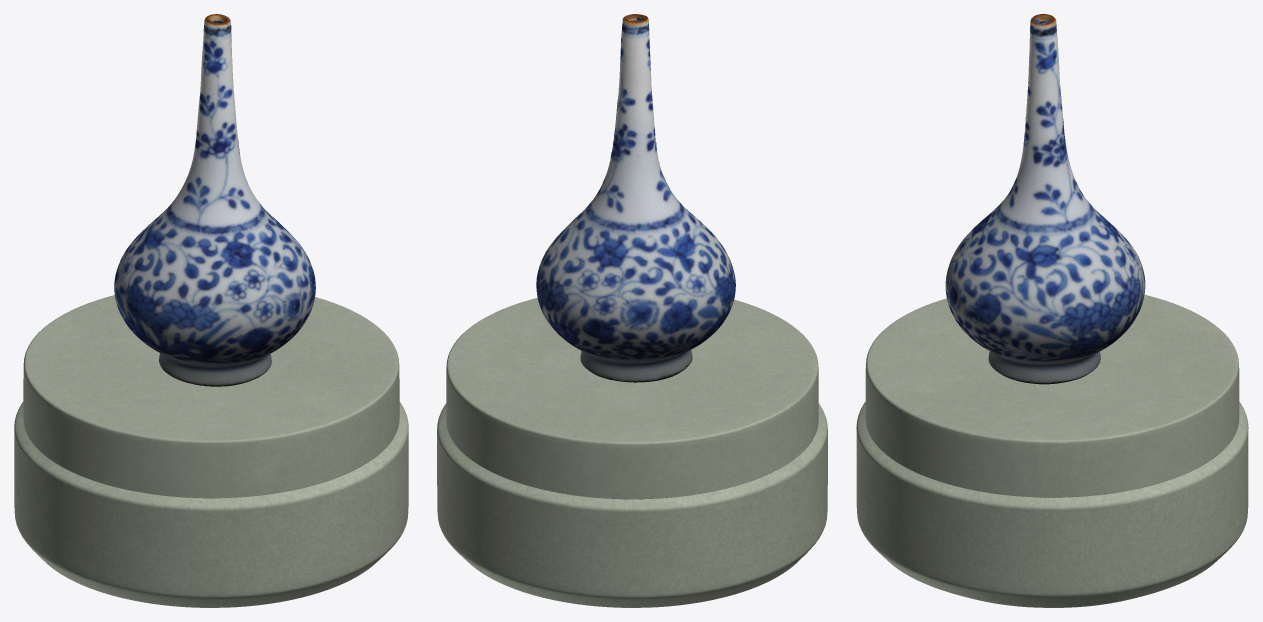
Rendered from bottle-shape.glb.
3 views of the same model, side by side, from view 1: azimuth 30°, elevation 25°; view 2: azimuth 150°, elevation 25°; view 3: azimuth 270°, elevation 25° (orthographic).
Bounding box in the file's own units: 0.203 × 0.2931 × 0.203.
Materials: 1 (1 with a texture image).
